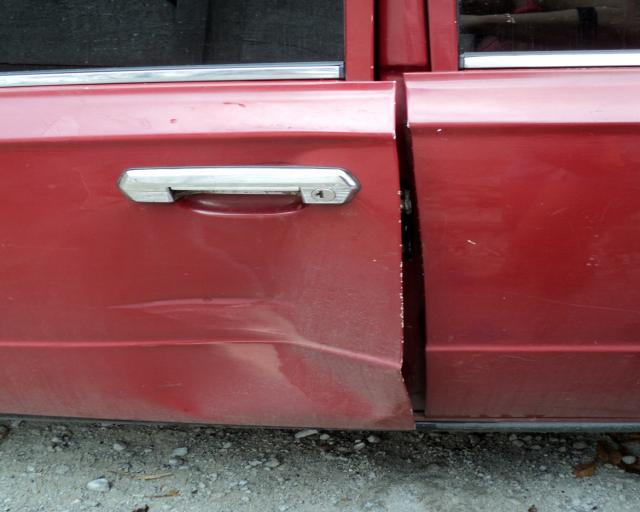dent: (104, 206, 389, 425)
